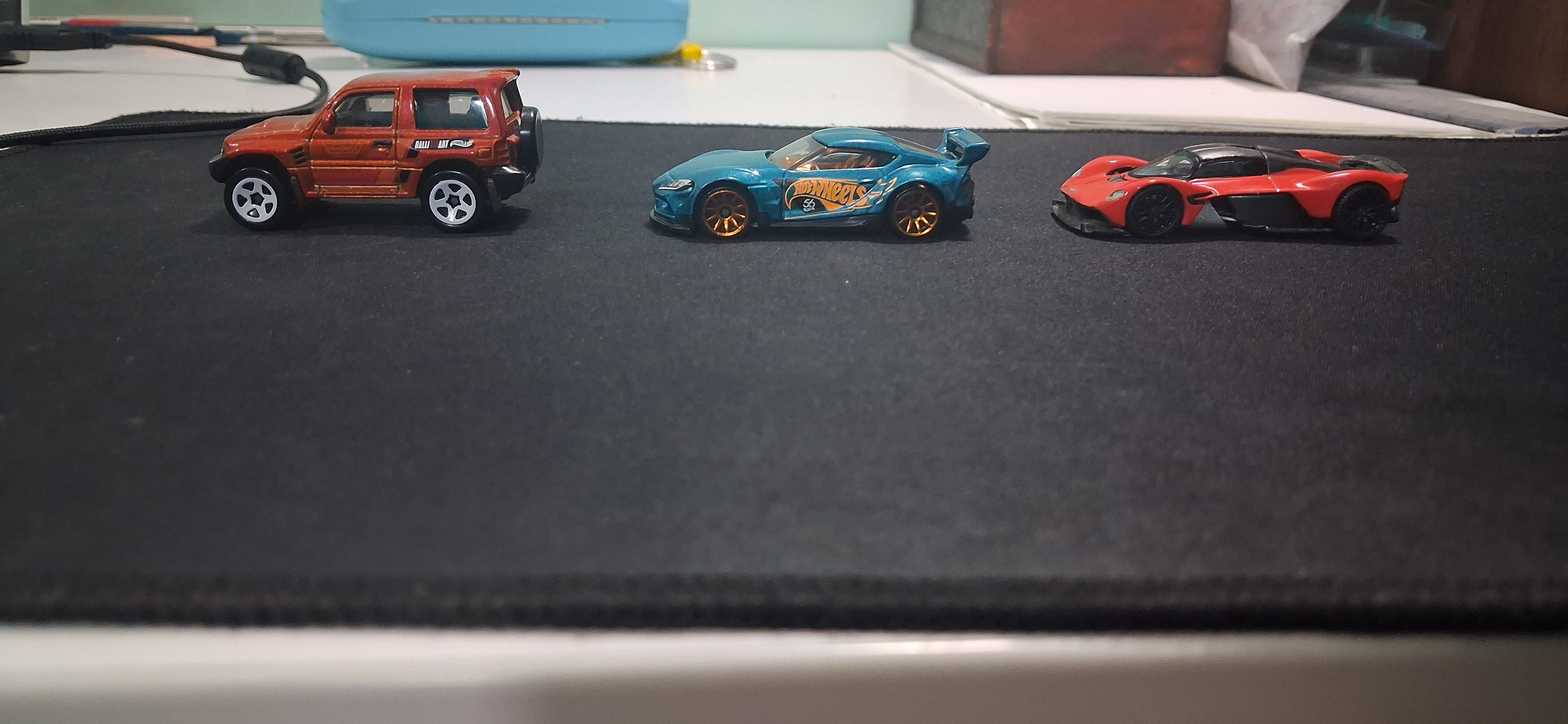Aston_Martin_Valkyrie: (1047, 91, 1453, 265)
Mitsubishi_Pajero_Evolution: (187, 12, 588, 294)
Toyota_GR_Supra: (619, 88, 1022, 299)
